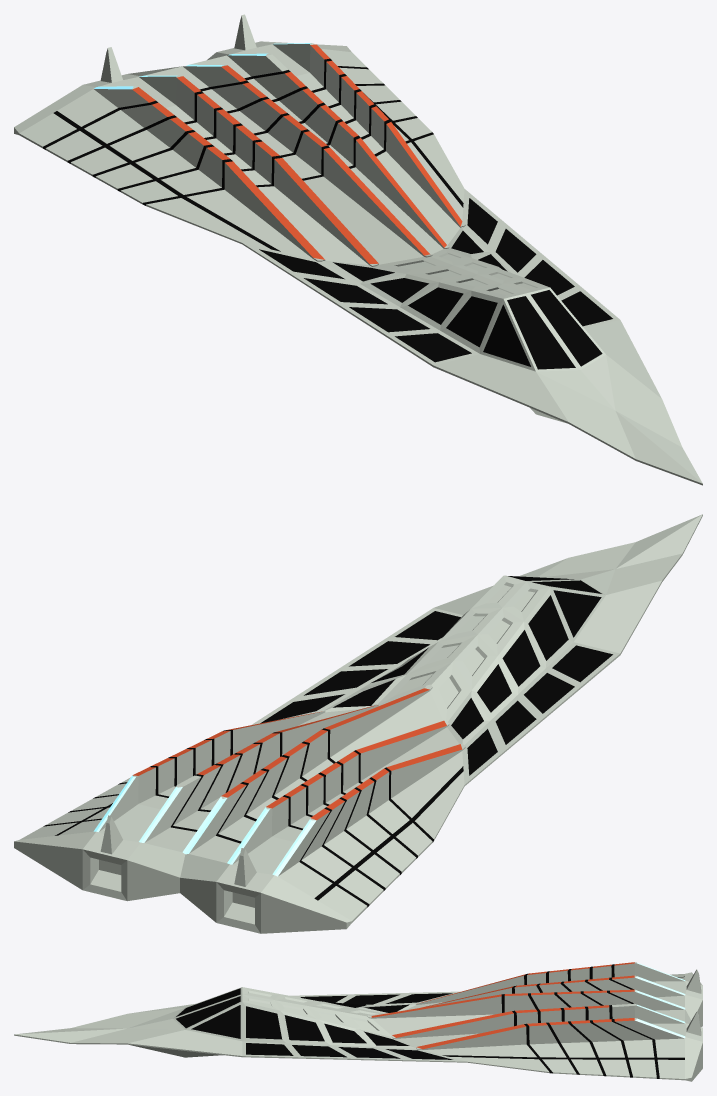
3 renders of one model, top to bottom at view 1: azimuth 30°, elevation 25°; view 2: azimuth 150°, elevation 25°; view 3: azimuth 270°, elevation 25°, orthographic. The views are drawn at different scales.
Visible parts, largest first — view 1: Plane; view 2: Plane; view 3: Plane.
Boxes of the visible parts, x1,y1,x2,y2 form: Plane: (14, 14, 702, 485); Plane: (14, 514, 702, 933); Plane: (14, 962, 702, 1081).
Size of the model in its own units: 1.87 by 0.4619 by 5.16.
